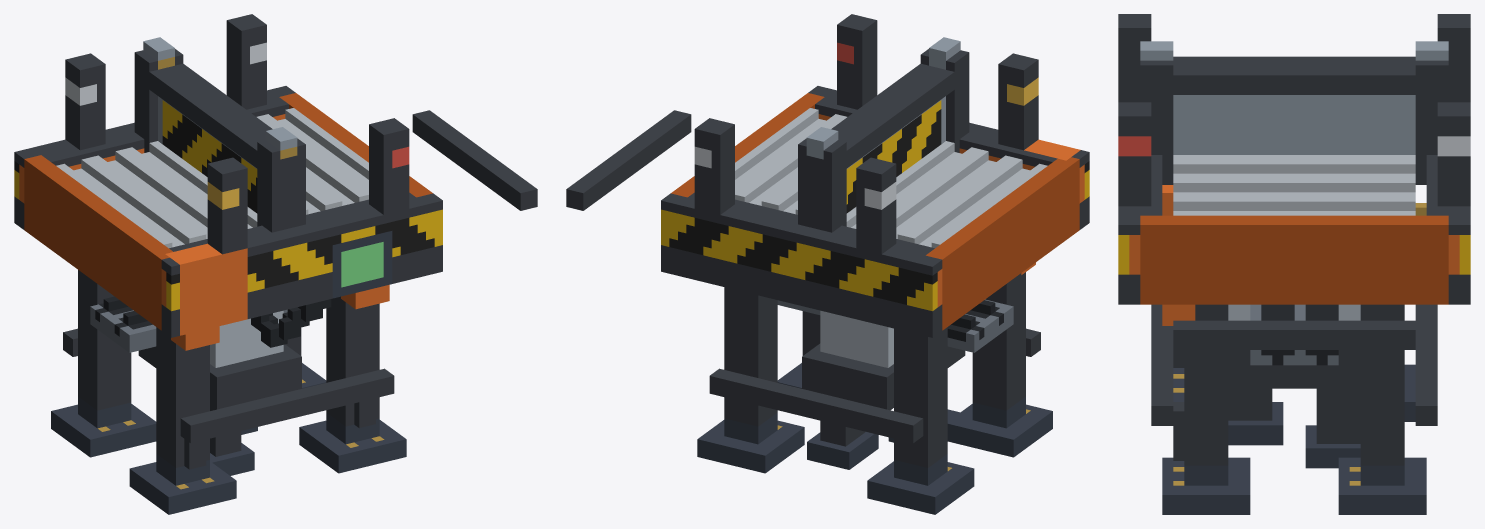
File: conveyor_gate.obj
3 views of the same model, side by side, from view 1: azimuth 30°, elevation 25°; view 2: azimuth 150°, elevation 25°; view 3: azimuth 270°, elevation 25° (orthographic). The views are drawn at different scales.
Visible parts, largest first — view 1: frame, blade; view 2: frame, blade; view 3: frame, blade.
Part boxes in pixels (box(x1,y1,x2,y2)): frame: box(14, 14, 537, 514); blade: box(144, 63, 272, 213); frame: box(566, 14, 1089, 514); blade: box(831, 63, 954, 213); frame: box(1118, 14, 1470, 514); blade: box(1162, 56, 1426, 154).
Bounding box in the file's own units: 1.44 × 1.25 × 1.
